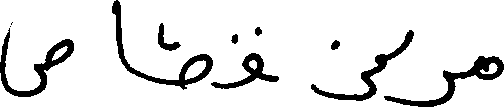ا: (114, 0, 124, 69)
ر: (409, 64, 454, 105)
ز: (311, 37, 373, 105)
ص: (0, 20, 71, 98), (180, 42, 211, 89)
ق: (212, 24, 271, 89)
ك: (373, 20, 416, 78)
م: (474, 54, 502, 80)
